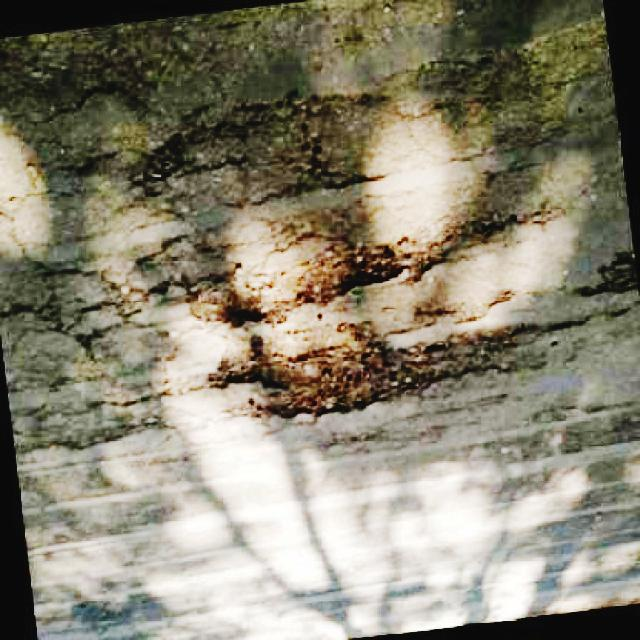pothole: (198, 324, 551, 430), (190, 225, 444, 329)
